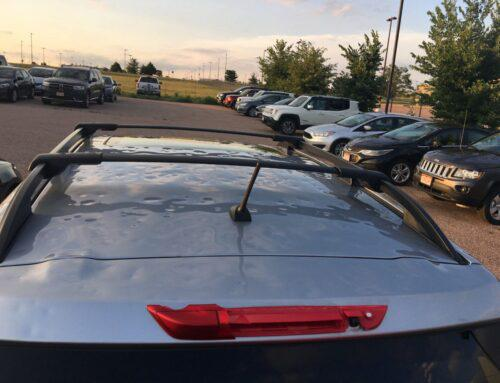roof-dent: (63, 141, 330, 337)
